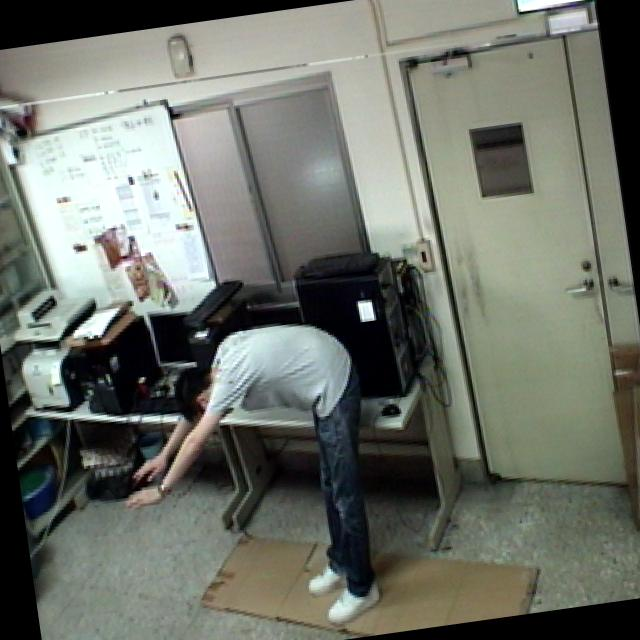bend: (106, 307, 401, 640)
